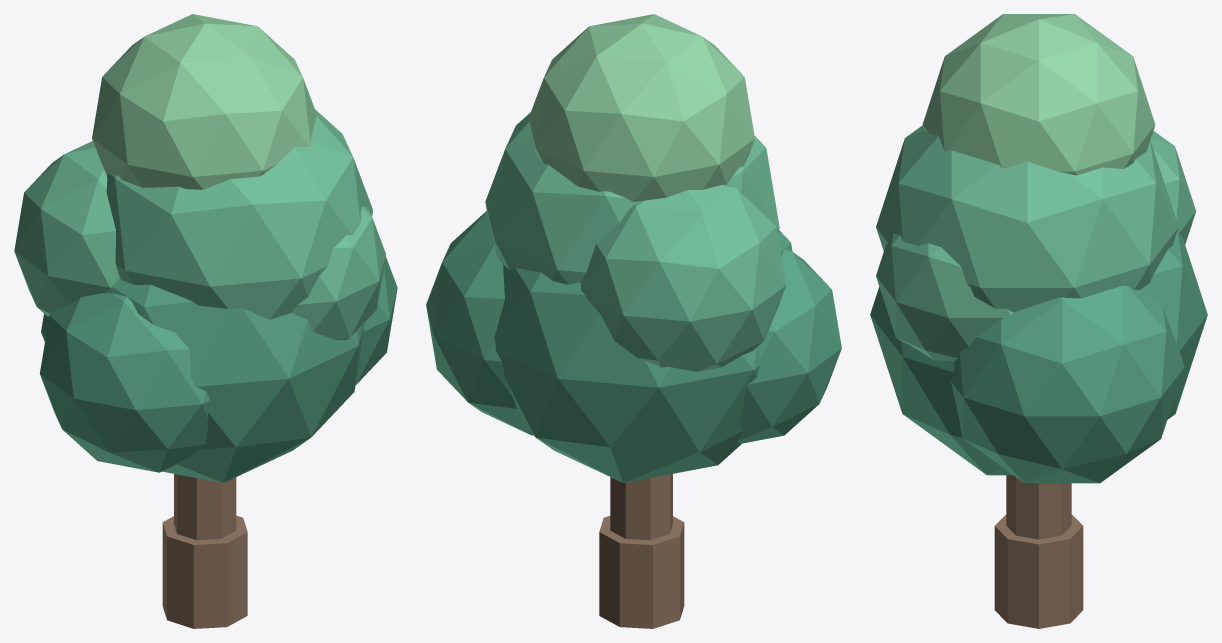
The model's file is tree.glb.
3 views of the same model, side by side, from view 1: azimuth 30°, elevation 25°; view 2: azimuth 150°, elevation 25°; view 3: azimuth 270°, elevation 25° (orthographic).
Parts seen in each view (by area): view 1: Icosphere.003, Icosphere.006, Icosphere, Icosphere.002, Icosphere.004, Cylinder, Icosphere.005, Cylinder.001, Icosphere.001; view 2: Icosphere, Icosphere.006, Icosphere.004, Icosphere.003, Icosphere.001, Icosphere.002, Cylinder, Cylinder.001; view 3: Icosphere.003, Icosphere.001, Icosphere.006, Icosphere, Icosphere.005, Cylinder, Cylinder.001, Icosphere.004.
Boxes of the visible parts, x1,y1,x2,y2 form: Icosphere.003: (106,109,372,319); Icosphere.006: (92,14,317,189); Icosphere: (41,278,364,482); Icosphere.002: (39,293,210,472); Icosphere.004: (14,141,119,316); Cylinder: (162,515,247,628); Icosphere.005: (291,206,385,339); Cylinder.001: (174,474,236,540); Icosphere.001: (355,256,397,384); Icosphere: (494,230,792,482); Icosphere.006: (528,14,754,201); Icosphere.004: (580,185,786,371); Icosphere.003: (485,112,779,284); Icosphere.001: (426,211,532,435); Icosphere.002: (737,249,841,443); Cylinder: (599,516,684,628); Cylinder.001: (610,474,672,540); Icosphere.003: (876,125,1178,312); Icosphere.001: (951,285,1184,483); Icosphere.006: (922,14,1155,175); Icosphere: (870,232,1207,475); Icosphere.005: (876,233,1013,360); Cylinder: (994,514,1083,628); Cylinder.001: (1006,475,1071,539); Icosphere.004: (1150,131,1196,244).
Size of the model in its own units: 3.5 by 5.6 by 2.9.
